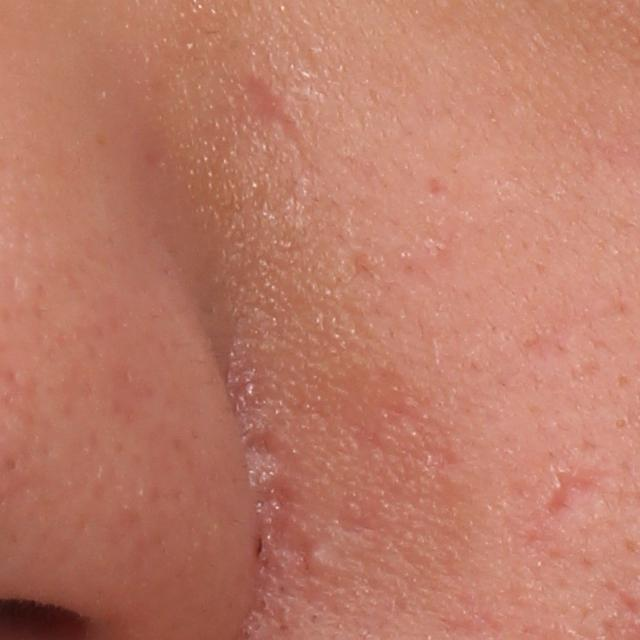atrophic_scar: (239, 70, 307, 151), (538, 461, 610, 521), (248, 428, 297, 477), (426, 174, 448, 201)
comedo: (300, 545, 330, 573), (612, 414, 629, 431)
